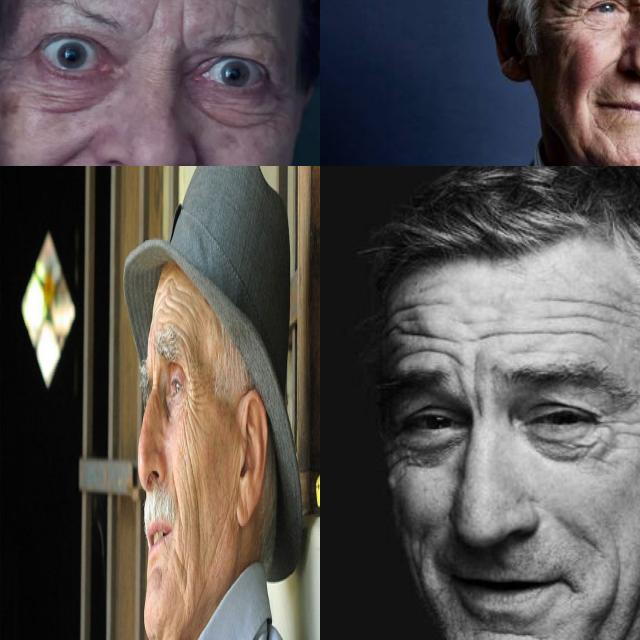chin: (587, 116, 613, 140)
crows_feet: (592, 405, 636, 449), (558, 2, 588, 28), (0, 48, 20, 83), (184, 369, 198, 418), (264, 87, 282, 125)
forehead: (544, 287, 620, 329), (392, 307, 438, 355), (547, 315, 601, 349), (468, 321, 534, 343), (220, 0, 253, 30), (173, 292, 190, 318), (178, 328, 193, 357), (165, 271, 178, 292), (161, 299, 172, 323)
frown_line: (466, 372, 488, 418), (176, 2, 190, 48), (143, 0, 159, 39), (149, 351, 156, 384)
gummy_smile: (33, 141, 92, 166), (192, 143, 229, 166), (594, 52, 622, 76), (171, 472, 181, 518)
masseter: (596, 566, 622, 622), (184, 436, 198, 498), (213, 516, 228, 566), (193, 498, 205, 550), (180, 542, 190, 596)
sad_smile: (582, 86, 594, 105)
